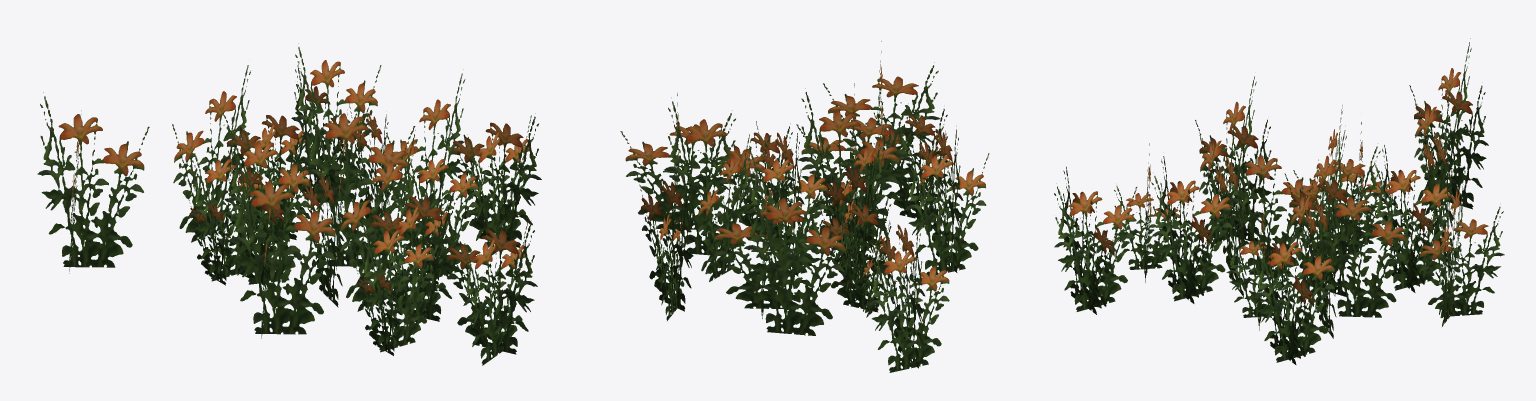
The model's file is wm_灌木野花05.fbx.
3 views of the same model, side by side, from view 1: azimuth 30°, elevation 25°; view 2: azimuth 150°, elevation 25°; view 3: azimuth 270°, elevation 25° (orthographic). The views are drawn at different scales.
Visible parts, largest first — view 1: wm_灌木野花05; view 2: wm_灌木野花05; view 3: wm_灌木野花05.
Boxes of the visible parts, x1,y1,x2,y2 form: wm_灌木野花05: (37, 43, 541, 365); wm_灌木野花05: (620, 41, 989, 372); wm_灌木野花05: (1054, 38, 1504, 364).
Size of the model in its own units: 176 by 71.56 by 176.
